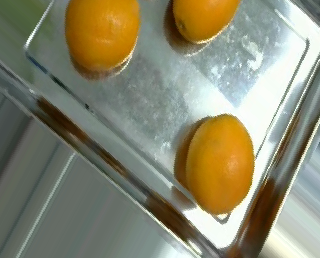Orange: (183, 111, 254, 215)
